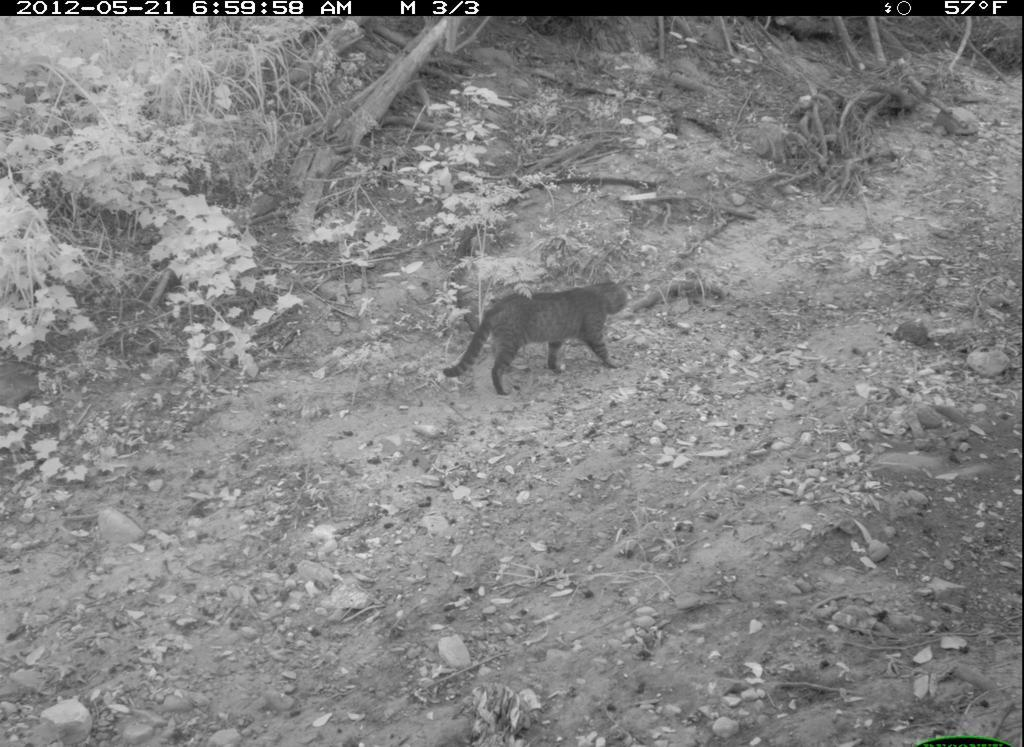cat: (434, 268, 635, 402)
